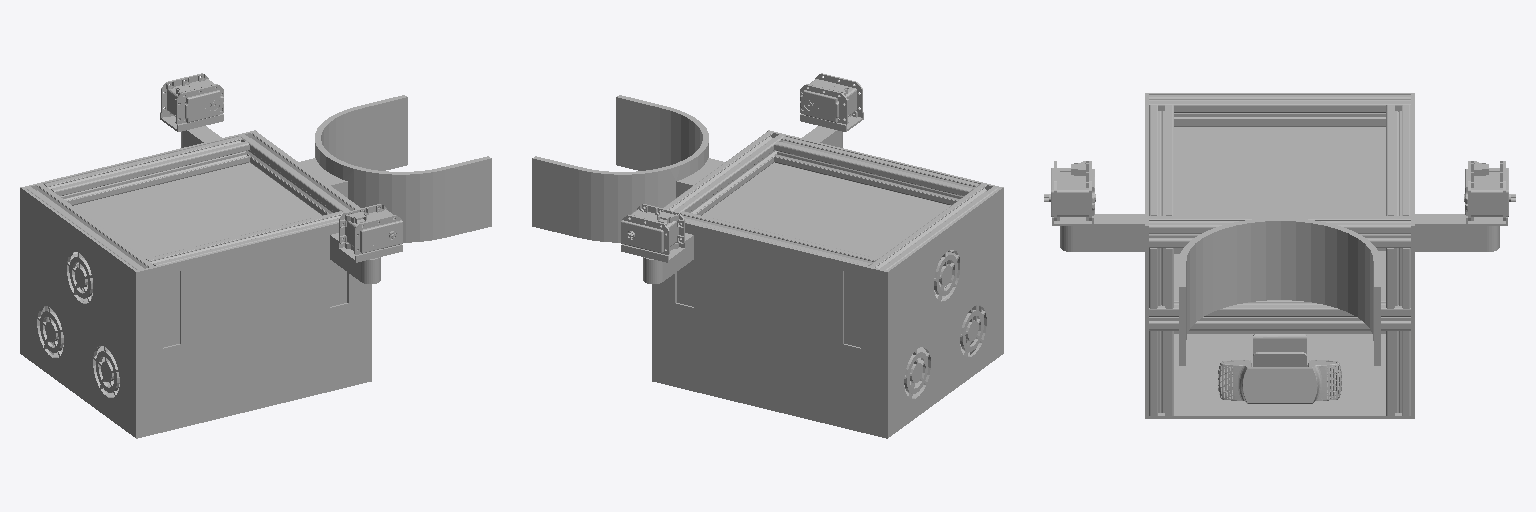
robot.urdf — cw4:
<?xml version="1.0" encoding="utf-8"?>
<!-- This URDF was automatically created by SolidWorks to URDF Exporter! Originally created by [author] ([email redacted]) 
     Commit Version: 1.5.1-0-g916b5db  Build Version: 1.5.7152.31018
     For more information, please see http://wiki.ros.org/sw_urdf_exporter -->
<robot
  name="cw4">
  <link
    name="Base">
    <inertial>
      <origin
        xyz="-0.143651511857374 -0.108895459398045 -0.0812772540077323"
        rpy="0 0 0" />
      <mass
        value="5.26325366509137" />
      <inertia
        ixx="0.0148943720049105"
        ixy="1.4797519813427E-06"
        ixz="8.31653282119484E-06"
        iyy="0.0219350627580291"
        iyz="-4.01751561824984E-06"
        izz="0.0231941861217009" />
    </inertial>
    <visual>
      <origin
        xyz="0 0 0"
        rpy="0 0 0" />
      <geometry>
        <mesh
          filename="package://cw4/meshes/Base.STL" />
      </geometry>
      <material
        name="">
        <color
          rgba="0.752941176470588 0.752941176470588 0.752941176470588 1" />
      </material>
    </visual>
    <collision>
      <origin
        xyz="0 0 0"
        rpy="0 0 0" />
      <geometry>
        <mesh
          filename="package://cw4/meshes/Base.STL" />
      </geometry>
    </collision>
  </link>
  <link
    name="LFS">
    <inertial>
      <origin
        xyz="0.0666875210853818 0.00364278355332759 -0.0648369138582873"
        rpy="0 0 0" />
      <mass
        value="0.26437001106024" />
      <inertia
        ixx="3.20746276473134E-05"
        ixy="-1.44118283521323E-07"
        ixz="-6.30853084344801E-08"
        iyy="6.22704126338856E-05"
        iyz="-2.01894652764197E-07"
        izz="6.28519936954001E-05" />
    </inertial>
    <visual>
      <origin
        xyz="0 0 0"
        rpy="0 0 0" />
      <geometry>
        <mesh
          filename="package://cw4/meshes/LFS.STL" />
      </geometry>
      <material
        name="">
        <color
          rgba="0.752941176470588 0.752941176470588 0.752941176470588 1" />
      </material>
    </visual>
    <collision>
      <origin
        xyz="0 0 0"
        rpy="0 0 0" />
      <geometry>
        <mesh
          filename="package://cw4/meshes/LFS.STL" />
      </geometry>
    </collision>
  </link>
  <joint
    name="LFS"
    type="prismatic">
    <origin
      xyz="-0.050812 -0.31516 0.047207"
      rpy="-0.30763 0 1.5708" />
    <parent
      link="Base" />
    <child
      link="LFS" />
    <axis
      xyz="0 0.3028 -0.95305" />
    <limit
      lower="0"
      upper="0"
      effort="0"
      velocity="0" />
  </joint>
  <link
    name="LFW">
    <inertial>
      <origin
        xyz="-0.012315724574073 -1.38777878078145E-17 0"
        rpy="0 0 0" />
      <mass
        value="0.193585420779862" />
      <inertia
        ixx="0.000253081141332254"
        ixy="-5.88092833198904E-37"
        ixz="5.1845054750851E-21"
        iyy="0.000136818598566517"
        iyz="7.17557753438369E-37"
        izz="0.000136818598566517" />
    </inertial>
    <visual>
      <origin
        xyz="0 0 0"
        rpy="0 0 0" />
      <geometry>
        <mesh
          filename="package://cw4/meshes/LFW.STL" />
      </geometry>
      <material
        name="">
        <color
          rgba="1 1 1 1" />
      </material>
    </visual>
    <collision>
      <origin
        xyz="0 0 0"
        rpy="0 0 0" />
      <geometry>
        <mesh
          filename="package://cw4/meshes/LFW.STL" />
      </geometry>
    </collision>
  </link>
  <joint
    name="LFW"
    type="continuous">
    <origin
      xyz="0.00041099 -0.018219 -0.039786"
      rpy="-1.8784 0 3.1416" />
    <parent
      link="LFS" />
    <child
      link="LFW" />
    <axis
      xyz="1 0 0" />
  </joint>
  <link
    name="RFS">
    <inertial>
      <origin
        xyz="0.0724473276378504 -0.00242306558271344 -0.0667549990091164"
        rpy="0 0 0" />
      <mass
        value="0.26437001106024" />
      <inertia
        ixx="3.20746276473134E-05"
        ixy="1.4411828352133E-07"
        ixz="6.30853084344787E-08"
        iyy="6.22704126338856E-05"
        iyz="-2.01894652764193E-07"
        izz="6.28519936954002E-05" />
    </inertial>
    <visual>
      <origin
        xyz="0 0 0"
        rpy="0 0 0" />
      <geometry>
        <mesh
          filename="package://cw4/meshes/RFS.STL" />
      </geometry>
      <material
        name="">
        <color
          rgba="0.752941176470588 0.752941176470588 0.752941176470588 1" />
      </material>
    </visual>
    <collision>
      <origin
        xyz="0 0 0"
        rpy="0 0 0" />
      <geometry>
        <mesh
          filename="package://cw4/meshes/RFS.STL" />
      </geometry>
    </collision>
  </link>
  <joint
    name="RFS"
    type="prismatic">
    <origin
      xyz="-0.012128 0.10492 0.047207"
      rpy="-0.30763 0 -1.5708" />
    <parent
      link="Base" />
    <child
      link="RFS" />
    <axis
      xyz="0 0.3028 -0.95305" />
    <limit
      lower="0"
      upper="0"
      effort="0"
      velocity="0" />
  </joint>
  <link
    name="RFW">
    <inertial>
      <origin
        xyz="-0.012315724574073 0 0"
        rpy="0 0 0" />
      <mass
        value="0.193585420779862" />
      <inertia
        ixx="0.000253081141332254"
        ixy="-9.44297928840746E-22"
        ixz="9.68305644339428E-21"
        iyy="0.000136818598566517"
        iyz="1.01643953670516E-20"
        izz="0.000136818598566517" />
    </inertial>
    <visual>
      <origin
        xyz="0 0 0"
        rpy="0 0 0" />
      <geometry>
        <mesh
          filename="package://cw4/meshes/RFW.STL" />
      </geometry>
      <material
        name="">
        <color
          rgba="1 1 1 1" />
      </material>
    </visual>
    <collision>
      <origin
        xyz="0 0 0"
        rpy="0 0 0" />
      <geometry>
        <mesh
          filename="package://cw4/meshes/RFW.STL" />
      </geometry>
    </collision>
  </link>
  <joint
    name="RFW"
    type="continuous">
    <origin
      xyz="0.0061708 0.00097405 -0.03369"
      rpy="-0.69943 0 3.1416" />
    <parent
      link="RFS" />
    <child
      link="RFW" />
    <axis
      xyz="1 0 0" />
  </joint>
  <link
    name="LBS">
    <inertial>
      <origin
        xyz="0.0754022136877307 -0.00953574862501649 -0.0222014198592475"
        rpy="0 0 0" />
      <mass
        value="0.197009126147877" />
      <inertia
        ixx="1.68802738687172E-05"
        ixy="2.58288841357983E-21"
        ixz="1.18478729345894E-21"
        iyy="5.02184885667569E-05"
        iyz="1.0508875929185E-06"
        izz="4.72447473350486E-05" />
    </inertial>
    <visual>
      <origin
        xyz="0 0 0"
        rpy="0 0 0" />
      <geometry>
        <mesh
          filename="package://cw4/meshes/LBS.STL" />
      </geometry>
      <material
        name="">
        <color
          rgba="0.752941176470588 0.752941176470588 0.752941176470588 1" />
      </material>
    </visual>
    <collision>
      <origin
        xyz="0 0 0"
        rpy="0 0 0" />
      <geometry>
        <mesh
          filename="package://cw4/meshes/LBS.STL" />
      </geometry>
    </collision>
  </link>
  <joint
    name="LBS"
    type="prismatic">
    <origin
      xyz="-0.23081 -0.31516 -0.0042239"
      rpy="-0.30763 0 1.5708" />
    <parent
      link="Base" />
    <child
      link="LBS" />
    <axis
      xyz="0 0.3028 -0.95305" />
    <limit
      lower="0"
      upper="0"
      effort="0"
      velocity="0" />
  </joint>
  <link
    name="LBC">
    <inertial>
      <origin
        xyz="0.00212675678752455 -0.00125107346378661 -2.77555756156289E-17"
        rpy="0 0 0" />
      <mass
        value="0.0337925918529465" />
      <inertia
        ixx="9.9077845929407E-06"
        ixy="1.2779398016802E-06"
        ixz="3.85819315038706E-22"
        iyy="2.88462343109062E-06"
        iyz="2.44880698808322E-21"
        izz="1.17553584577796E-05" />
    </inertial>
    <visual>
      <origin
        xyz="0 0 0"
        rpy="0 0 0" />
      <geometry>
        <mesh
          filename="package://cw4/meshes/LBC.STL" />
      </geometry>
      <material
        name="">
        <color
          rgba="0.898039215686275 0.917647058823529 0.929411764705882 1" />
      </material>
    </visual>
    <collision>
      <origin
        xyz="0 0 0"
        rpy="0 0 0" />
      <geometry>
        <mesh
          filename="package://cw4/meshes/LBC.STL" />
      </geometry>
    </collision>
  </link>
  <joint
    name="LBC"
    type="continuous">
    <origin
      xyz="0.041161 -0.015068 -0.0047875"
      rpy="-1.8784 0 3.1416" />
    <parent
      link="LBS" />
    <child
      link="LBC" />
    <axis
      xyz="0 1 0" />
  </joint>
  <link
    name="LBW">
    <inertial>
      <origin
        xyz="0.017684275425927 0 0"
        rpy="0 0 0" />
      <mass
        value="0.193585420779862" />
      <inertia
        ixx="0.000253081141332254"
        ixy="-5.88092833198904E-37"
        ixz="5.1845054750851E-21"
        iyy="0.000136818598566517"
        iyz="7.17557753438369E-37"
        izz="0.000136818598566517" />
    </inertial>
    <visual>
      <origin
        xyz="0 0 0"
        rpy="0 0 0" />
      <geometry>
        <mesh
          filename="package://cw4/meshes/LBW.STL" />
      </geometry>
      <material
        name="">
        <color
          rgba="1 1 1 1" />
      </material>
    </visual>
    <collision>
      <origin
        xyz="0 0 0"
        rpy="0 0 0" />
      <geometry>
        <mesh
          filename="package://cw4/meshes/LBW.STL" />
      </geometry>
    </collision>
  </link>
  <joint
    name="LBW"
    type="continuous">
    <origin
      xyz="0.01075 -0.019033 0"
      rpy="0 0 0" />
    <parent
      link="LBC" />
    <child
      link="LBW" />
    <axis
      xyz="1 0 0" />
  </joint>
  <link
    name="RBS">
    <inertial>
      <origin
        xyz="0.0754022136877307 -0.00953574862501652 -0.0222014198592475"
        rpy="0 0 0" />
      <mass
        value="0.197009126147877" />
      <inertia
        ixx="1.68802738687172E-05"
        ixy="-2.41256476367787E-21"
        ixz="-1.24029286521779E-21"
        iyy="5.02184885667569E-05"
        iyz="1.05088759291849E-06"
        izz="4.72447473350486E-05" />
    </inertial>
    <visual>
      <origin
        xyz="0 0 0"
        rpy="0 0 0" />
      <geometry>
        <mesh
          filename="package://cw4/meshes/RBS.STL" />
      </geometry>
      <material
        name="">
        <color
          rgba="0.752941176470588 0.752941176470588 0.752941176470588 1" />
      </material>
    </visual>
    <collision>
      <origin
        xyz="0 0 0"
        rpy="0 0 0" />
      <geometry>
        <mesh
          filename="package://cw4/meshes/RBS.STL" />
      </geometry>
    </collision>
  </link>
  <joint
    name="RBS"
    type="prismatic">
    <origin
      xyz="-0.19919 0.099161 -0.0042239"
      rpy="-0.30763 0 -1.5708" />
    <parent
      link="Base" />
    <child
      link="RBS" />
    <axis
      xyz="0 0.3028 -0.95305" />
    <limit
      lower="0"
      upper="0"
      effort="0"
      velocity="0" />
  </joint>
  <link
    name="RBC">
    <inertial>
      <origin
        xyz="0.00212675678752453 -0.00125107346378658 0"
        rpy="0 0 0" />
      <mass
        value="0.0337925918529464" />
      <inertia
        ixx="9.90778459294068E-06"
        ixy="1.2779398016802E-06"
        ixz="6.0757204929637E-22"
        iyy="2.88462343109061E-06"
        iyz="2.57045730238407E-21"
        izz="1.17553584577795E-05" />
    </inertial>
    <visual>
      <origin
        xyz="0 0 0"
        rpy="0 0 0" />
      <geometry>
        <mesh
          filename="package://cw4/meshes/RBC.STL" />
      </geometry>
      <material
        name="">
        <color
          rgba="0.898039215686275 0.917647058823529 0.929411764705882 1" />
      </material>
    </visual>
    <collision>
      <origin
        xyz="0 0 0"
        rpy="0 0 0" />
      <geometry>
        <mesh
          filename="package://cw4/meshes/RBC.STL" />
      </geometry>
    </collision>
  </link>
  <joint
    name="RBC"
    type="continuous">
    <origin
      xyz="0.041161 -0.015068 -0.0047875"
      rpy="-1.8784 0 3.1416" />
    <parent
      link="RBS" />
    <child
      link="RBC" />
    <axis
      xyz="0 1 0" />
  </joint>
  <link
    name="RBW">
    <inertial>
      <origin
        xyz="0.017684275425927 2.77555756156289E-17 2.77555756156289E-17"
        rpy="0 0 0" />
      <mass
        value="0.193585420779862" />
      <inertia
        ixx="0.000253081141332253"
        ixy="-1.77826406212573E-20"
        ixz="1.08676942117992E-20"
        iyy="0.000136818598566517"
        iyz="8.470329472543E-21"
        izz="0.000136818598566517" />
    </inertial>
    <visual>
      <origin
        xyz="0 0 0"
        rpy="0 0 0" />
      <geometry>
        <mesh
          filename="package://cw4/meshes/RBW.STL" />
      </geometry>
      <material
        name="">
        <color
          rgba="1 1 1 1" />
      </material>
    </visual>
    <collision>
      <origin
        xyz="0 0 0"
        rpy="0 0 0" />
      <geometry>
        <mesh
          filename="package://cw4/meshes/RBW.STL" />
      </geometry>
    </collision>
  </link>
  <joint
    name="RBW"
    type="continuous">
    <origin
      xyz="0.01075 -0.019033 0"
      rpy="1.7808 0 0" />
    <parent
      link="RBC" />
    <child
      link="RBW" />
    <axis
      xyz="1 0 0" />
  </joint>
  <link
    name="Lidar">
    <inertial>
      <origin
        xyz="-0.0784930223787604 -0.744427430950029 -0.133449677865896"
        rpy="0 0 0" />
      <mass
        value="0.0730845704999828" />
      <inertia
        ixx="1.95808756791187E-05"
        ixy="4.28391210140712E-07"
        ixz="-1.03933581663682E-07"
        iyy="4.14184516311443E-05"
        iyz="-9.42671864204435E-09"
        izz="2.41250079960291E-05" />
    </inertial>
    <visual>
      <origin
        xyz="0 0 0"
        rpy="0 0 0" />
      <geometry>
        <mesh
          filename="package://cw4/meshes/Lidar.STL" />
      </geometry>
      <material
        name="">
        <color
          rgba="0.792156862745098 0.819607843137255 0.933333333333333 1" />
      </material>
    </visual>
    <collision>
      <origin
        xyz="0 0 0"
        rpy="0 0 0" />
      <geometry>
        <mesh
          filename="package://cw4/meshes/Lidar.STL" />
      </geometry>
    </collision>
  </link>
  <joint
    name="Lidar"
    type="fixed">
    <origin
      xyz="-0.098561 -0.24092 0.5487"
      rpy="1.5708 0 0" />
    <parent
      link="Base" />
    <child
      link="Lidar" />
    <axis
      xyz="0 0 0" />
  </joint>
  <link
    name="Cam">
    <inertial>
      <origin
        xyz="-0.0238863589328312 -0.0255006330045159 0.0933352730175545"
        rpy="0 0 0" />
      <mass
        value="0.0842240111641082" />
      <inertia
        ixx="1.39666927752748E-05"
        ixy="-8.82405655949243E-10"
        ixz="-1.01133319009034E-09"
        iyy="3.67256443822933E-05"
        iyz="-1.5150768696788E-06"
        izz="3.01150328860415E-05" />
    </inertial>
    <visual>
      <origin
        xyz="0 0 0"
        rpy="0 0 0" />
      <geometry>
        <mesh
          filename="package://cw4/meshes/Cam.STL" />
      </geometry>
      <material
        name="">
        <color
          rgba="0.752941176470588 0.752941176470588 0.752941176470588 1" />
      </material>
    </visual>
    <collision>
      <origin
        xyz="0 0 0"
        rpy="0 0 0" />
      <geometry>
        <mesh
          filename="package://cw4/meshes/Cam.STL" />
      </geometry>
    </collision>
  </link>
  <joint
    name="Cam"
    type="fixed">
    <origin
      xyz="-0.099325 -0.13189 -0.16474"
      rpy="-1.4228 0 -1.5708" />
    <parent
      link="Base" />
    <child
      link="Cam" />
    <axis
      xyz="0 0 0" />
  </joint>
</robot>

--- Render facts (derived) ---
3 views of the same robot in one strip: view 1: azimuth 30°, elevation 25°; view 2: azimuth 150°, elevation 25°; view 3: azimuth 270°, elevation 25° (orthographic).
Robot: cw4 — 13 links, 12 joints (6 continuous, 4 prismatic, 2 fixed); root link Base; default pose: every joint at zero.
Links seen in each view (by area): view 1: Base, LFS, RFS; view 2: Base, RFS, LFS; view 3: Base, Cam, RFS, LFS.
Link boxes in pixels (bbox=[...]): Base: bbox=[20, 95, 491, 438]; LFS: bbox=[330, 204, 402, 283]; RFS: bbox=[160, 73, 223, 147]; Base: bbox=[532, 95, 1003, 438]; RFS: bbox=[621, 204, 693, 283]; LFS: bbox=[800, 73, 863, 147]; Base: bbox=[1145, 93, 1414, 418]; Cam: bbox=[1218, 334, 1341, 403]; RFS: bbox=[1415, 161, 1515, 251]; LFS: bbox=[1044, 161, 1144, 251].
Size in the robot's own frame: 0.3973 by 0.3775 by 0.2036 metres.
Meshes: 13 distinct files referenced, 4 mesh visuals loaded (4 binary STL); not drawn: 9 (reference not matched to a file when rendering).